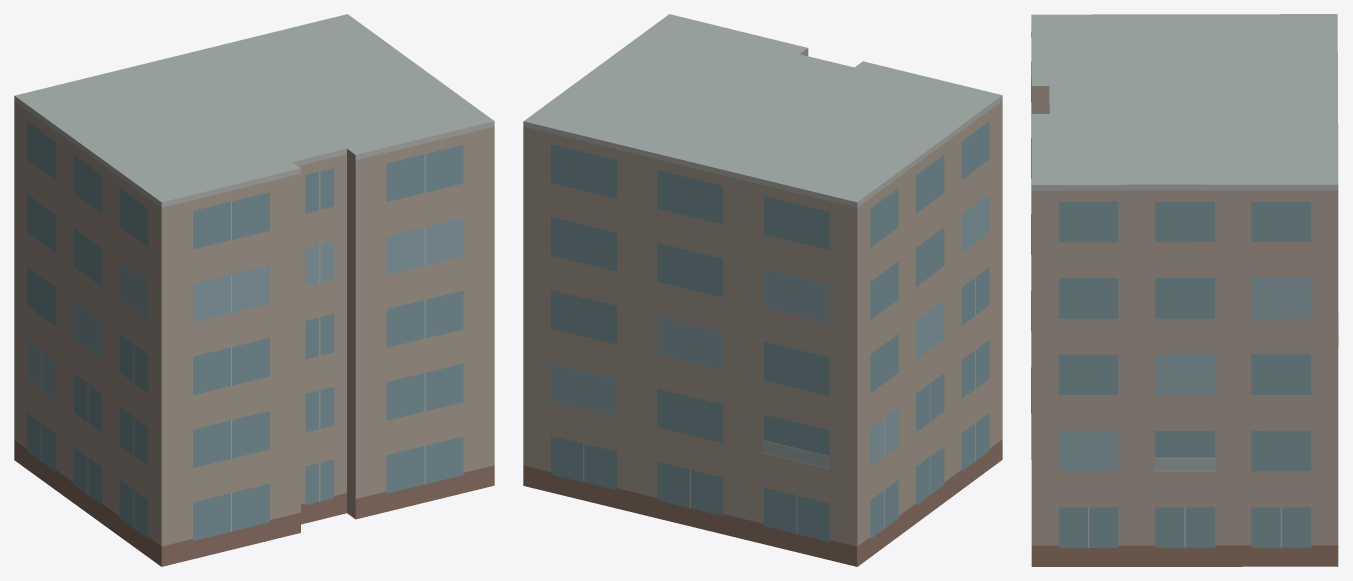
The model's file is survey-upis-32536501.glb.
3 renders of one model, left to right at view 1: azimuth 30°, elevation 25°; view 2: azimuth 150°, elevation 25°; view 3: azimuth 270°, elevation 25°, orthographic. The views are drawn at different scales.
Parts seen in each view (by area): view 1: survey-upis-32536501.tmp; view 2: survey-upis-32536501.tmp; view 3: survey-upis-32536501.tmp.
Part boxes in pixels (x1,y1,x2,y2): survey-upis-32536501.tmp: (14, 14, 494, 566); survey-upis-32536501.tmp: (523, 14, 1002, 566); survey-upis-32536501.tmp: (1031, 14, 1338, 566).
Size of the model in its own units: 15.86 by 16.5 by 12.05.
